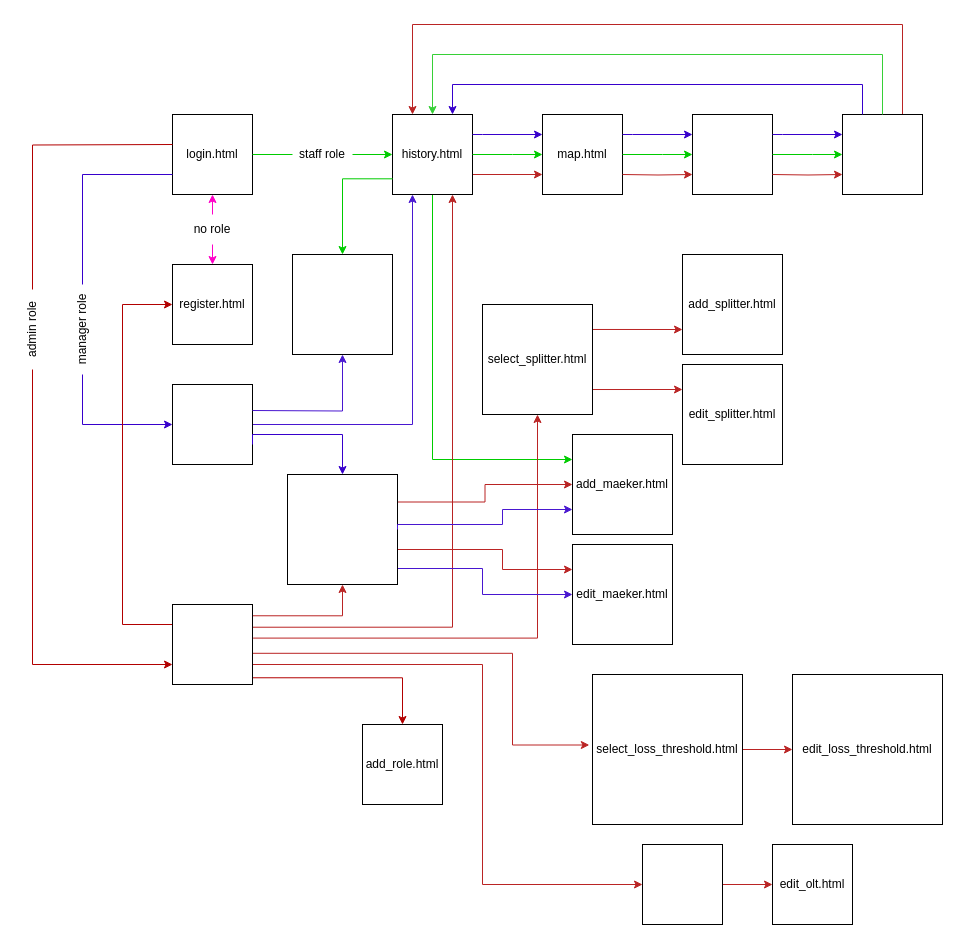
Image size: 960x942. Some labels were removed from this diagram. The centre of each missing label's shape, as x and y in pixels:
"add.html" goes at point 732,154.
"admin.html" goes at point 212,644.
"edit_profile.html" goes at point 342,304.
"manager.html" goes at point 212,424.
"results.html" goes at point 882,154.
"seclet_maeker.html" goes at point 342,529.
"select_olt.html" goes at point 682,884.
